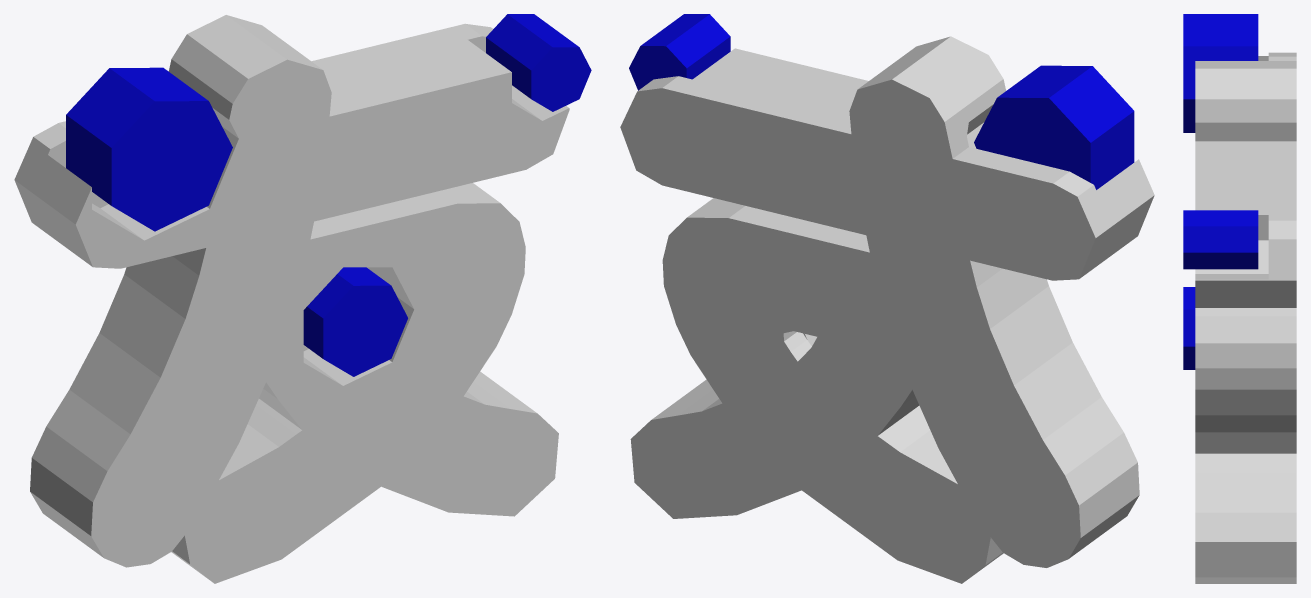
File: Ch_Lite_China_友_01.fbx
3 views of the same model, side by side, from view 1: azimuth 30°, elevation 25°; view 2: azimuth 150°, elevation 25°; view 3: azimuth 270°, elevation 25° (orthographic). The views are drawn at different scales.
Parts seen in each view (by area): view 1: sphere1; view 2: sphere1; view 3: sphere1.
Part boxes in pixels (x1=…): sphere1: x1=14, y1=14, x2=591, y2=583; sphere1: x1=620, y1=14, x2=1154, y2=583; sphere1: x1=1183, y1=14, x2=1296, y2=583.
Bounding box in the file's own units: 0.9581 × 0.9224 × 0.2242.
